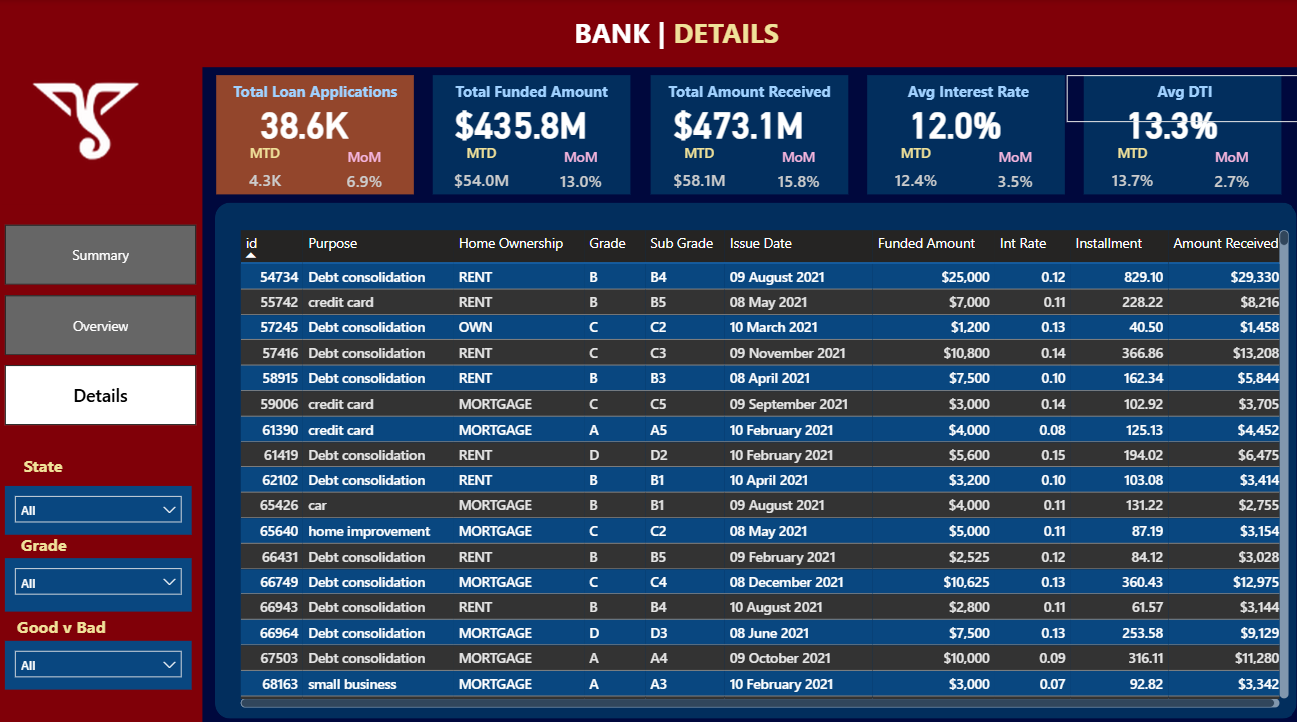

The page's visual inventory and layout, read from the dashboard file:
{"tool":"powerbi","page":{"name":"Details","canvas":[1280,720],"ordinal":2},"visuals":[{"type":"shape","box":[0,0,1279.8,67],"z":0},{"type":"shape","box":[216.2,74.5,194.4,117.2],"z":0,"group":"g1"},{"type":"shape","box":[429.2,74.5,194.4,117.2],"z":0,"group":"g2"},{"type":"shape","box":[642.2,74.5,194.4,117.2],"z":0,"group":"g3"},{"type":"shape","box":[855.2,74.5,194.4,117.2],"z":0,"group":"g4"},{"type":"shape","box":[1068.2,74.5,194.4,117.2],"z":0,"group":"g5"},{"type":"shape","box":[0,63.2,202.1,657.1],"z":1000},{"type":"card","fields":{"Values":["bank_loan_data.Total Loan Applications"]},"box":[205.4,93,192.8,55.5],"z":1000,"group":"g1"},{"type":"card","fields":{"Values":["bank_loan_data.Total Funded Amount"]},"box":[418.4,93,192.8,55.5],"z":1000,"group":"g2"},{"type":"card","fields":{"Values":["bank_loan_data.Total Amounr Received"]},"box":[631.4,93,192.8,55.5],"z":1000,"group":"g3"},{"type":"card","fields":{"Values":["bank_loan_data.Avg Interst Rate"]},"box":[844.4,93,192.8,55.5],"z":1000,"group":"g4"},{"type":"card","fields":{"Values":["bank_loan_data.Avg DTI"]},"box":[1057.4,93,192.8,55.5],"z":1000,"group":"g5"},{"type":"textbox","box":[199.2,74.5,228.3,46.3],"z":2000,"group":"g1"},{"type":"textbox","box":[412.2,74.5,228.3,46.3],"z":2000,"group":"g2"},{"type":"textbox","box":[625.2,74.5,228.3,46.3],"z":2000,"group":"g3"},{"type":"textbox","box":[838.2,74.5,228.3,46.3],"z":2000,"group":"g4"},{"type":"textbox","box":[1051.2,74.5,228.3,46.3],"z":2000,"group":"g5"},{"type":"shape","box":[214.4,200.5,1064.3,507.5],"z":2000},{"type":"card","title":"MTD","fields":{"Values":["bank_loan_data.MTD Loan Application"]},"box":[226.7,142.1,74.8,58.1],"z":3000,"group":"g1"},{"type":"card","title":"MTD","fields":{"Values":["bank_loan_data.MTD Funded Amount"]},"box":[439.7,142.1,74.8,58.1],"z":3000,"group":"g2"},{"type":"card","title":"MTD","fields":{"Values":["bank_loan_data.MTD Total Amount Recievd"]},"box":[652.7,142.1,74.8,58.1],"z":3000,"group":"g3"},{"type":"card","title":"MTD","fields":{"Values":["bank_loan_data.MTD Avg Int Rate"]},"box":[865.7,142.1,74.8,58.1],"z":3000,"group":"g4"},{"type":"card","title":"MTD","fields":{"Values":["bank_loan_data.MTD Avg DTI"]},"box":[1078.7,142.1,74.8,58.1],"z":3000,"group":"g5"},{"type":"textbox","box":[433.5,9,461.9,65.8],"z":4000},{"type":"card","title":"MoM","fields":{"Values":["bank_loan_data.MOM Loan Application"]},"box":[324.1,145.5,74,50.9],"z":4000,"group":"g1"},{"type":"card","title":"MoM","fields":{"Values":["bank_loan_data.MOM Total Funded Amount"]},"box":[537.1,145.5,74,50.9],"z":4000,"group":"g2"},{"type":"card","title":"MoM","fields":{"Values":["bank_loan_data.MOM Total Amount Recived"]},"box":[750.1,145.5,74,50.9],"z":4000,"group":"g3"},{"type":"card","title":"MoM","fields":{"Values":["bank_loan_data.MOM Avg Int rate"]},"box":[963.1,145.5,74,50.9],"z":4000,"group":"g4"},{"type":"card","title":"MoM","fields":{"Values":["bank_loan_data.MOM Avg DTI"]},"box":[1176.1,145.5,74,50.9],"z":4000,"group":"g5"},{"type":"group","id":"g1","title":"Group 1","box":[199.2,74.5,1076.4,627.1],"z":5000},{"type":"group","id":"g2","title":"Group 1","box":[412.2,74.5,228.6,126.4],"z":6000},{"type":"group","id":"g3","title":"Group 1","box":[625.2,74.5,228.6,124.7],"z":7000},{"type":"group","id":"g4","title":"Group 1","box":[838.2,74.5,228.6,126.4],"z":8000},{"type":"group","id":"g5","title":"Group 1","box":[1051.2,74.5,228.6,126.4],"z":9000},{"type":"slicer","fields":{"Values":["bank_loan_data.address_state"]},"box":[7.7,478.2,183.6,47.8],"z":10000},{"type":"textbox","box":[17,442.7,64.8,35.5],"z":11000},{"type":"slicer","fields":{"Values":["bank_loan_data.grade"]},"box":[7.7,549.1,183.6,52.4],"z":12000},{"type":"textbox","box":[13.9,519.8,92.6,41.6],"z":13000},{"type":"slicer","fields":{"Values":["bank_loan_data.Good v Bad Loan "]},"box":[7.7,630.9,183.6,47.8],"z":14000},{"type":"textbox","box":[10.3,599.9,163.8,41.3],"z":15000},{"type":"pageNavigator","box":[7.7,221.9,188.4,200],"z":16000},{"type":"image","box":[0,0,174.2,240],"z":17000},{"type":"tableEx","fields":{"Values":["bank_loan_data.id","bank_loan_data.purpose","bank_loan_data.home_ownership","bank_loan_data.grade","bank_loan_data.sub_grade","bank_loan_data.issue_date","bank_loan_data.Total Funded Amount","Sum(bank_loan_data.int_rate)","Sum(bank_loan_data.installment)","bank_loan_data.Total Amounr Received"]},"box":[234.4,221.9,1041.2,479.7],"z":18001,"group":"g1"}]}

Visuals, with their boxes in screenshot pixels (x1, y1, x2, y2), scaled from the page's 1280x720 canvas onto the 1297x722 screenshot:
shape: left=0, top=0, right=1296, bottom=67
shape: left=219, top=75, right=416, bottom=192
shape: left=435, top=75, right=632, bottom=192
shape: left=651, top=75, right=848, bottom=192
shape: left=867, top=75, right=1064, bottom=192
shape: left=1082, top=75, right=1279, bottom=192
shape: left=0, top=63, right=205, bottom=721
card - bank_loan_data.Total Loan Applications: left=208, top=93, right=403, bottom=149
card - bank_loan_data.Total Funded Amount: left=424, top=93, right=619, bottom=149
card - bank_loan_data.Total Amounr Received: left=640, top=93, right=835, bottom=149
card - bank_loan_data.Avg Interst Rate: left=856, top=93, right=1051, bottom=149
card - bank_loan_data.Avg DTI: left=1071, top=93, right=1267, bottom=149
textbox: left=202, top=75, right=433, bottom=121
textbox: left=418, top=75, right=649, bottom=121
textbox: left=634, top=75, right=865, bottom=121
textbox: left=849, top=75, right=1081, bottom=121
textbox: left=1065, top=75, right=1296, bottom=121
shape: left=217, top=201, right=1296, bottom=710
"MTD" card: left=230, top=142, right=306, bottom=201
"MTD" card: left=446, top=142, right=521, bottom=201
"MTD" card: left=661, top=142, right=737, bottom=201
"MTD" card: left=877, top=142, right=953, bottom=201
"MTD" card: left=1093, top=142, right=1169, bottom=201
textbox: left=439, top=9, right=907, bottom=75
"MoM" card: left=328, top=146, right=403, bottom=197
"MoM" card: left=544, top=146, right=619, bottom=197
"MoM" card: left=760, top=146, right=835, bottom=197
"MoM" card: left=976, top=146, right=1051, bottom=197
"MoM" card: left=1192, top=146, right=1267, bottom=197
"Group 1" group: left=202, top=75, right=1293, bottom=704
"Group 1" group: left=418, top=75, right=649, bottom=201
"Group 1" group: left=634, top=75, right=865, bottom=200
"Group 1" group: left=849, top=75, right=1081, bottom=201
"Group 1" group: left=1065, top=75, right=1296, bottom=201
slicer - bank_loan_data.address_state: left=8, top=480, right=194, bottom=527
textbox: left=17, top=444, right=83, bottom=480
slicer - bank_loan_data.grade: left=8, top=551, right=194, bottom=603
textbox: left=14, top=521, right=108, bottom=563
slicer - bank_loan_data.Good v Bad Loan : left=8, top=633, right=194, bottom=681
textbox: left=10, top=602, right=176, bottom=643
pageNavigator: left=8, top=223, right=199, bottom=423
image: left=0, top=0, right=177, bottom=241
tableEx - bank_loan_data.id x bank_loan_data.purpose: left=238, top=223, right=1293, bottom=704
